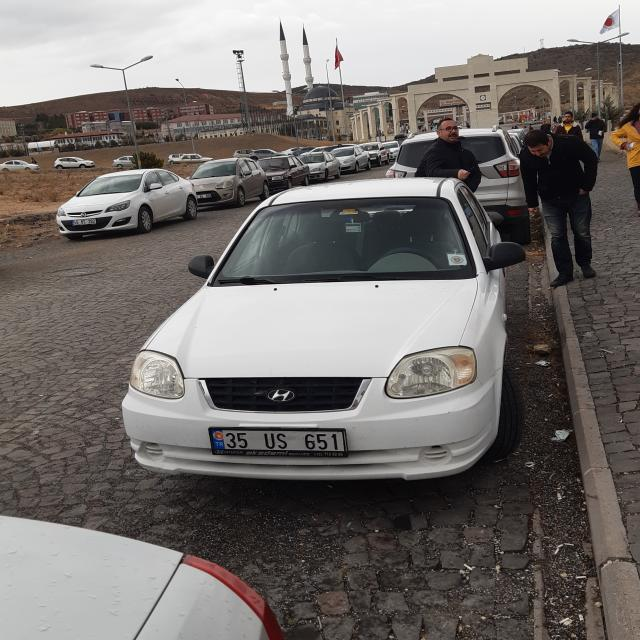license_plate: (211, 427, 348, 454)
